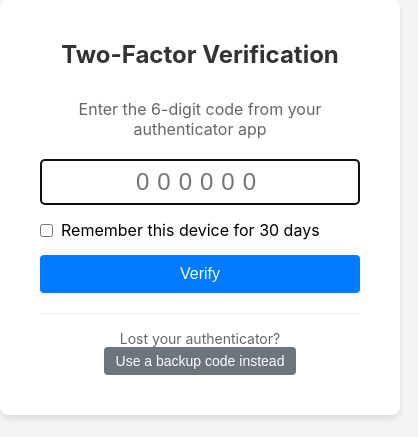
Test case: MFAVerify › Backup code flow › should switch to backup code input on click
This screenshot has width=418, height=437.
Click the button "Use a backup code instead".
click(200, 361)  # box [104,347,296,375]
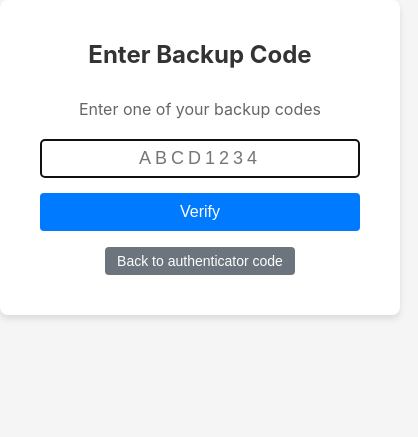
Result: the heading "Two-Factor Verification" is gone
